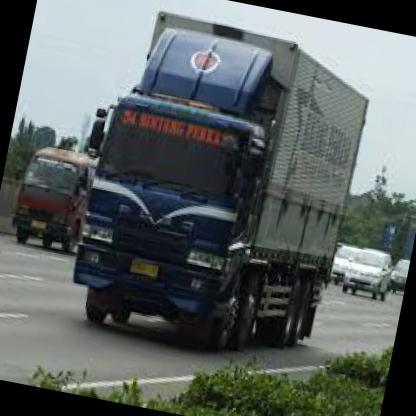truck: (62, 86, 284, 354), (8, 141, 97, 256)
